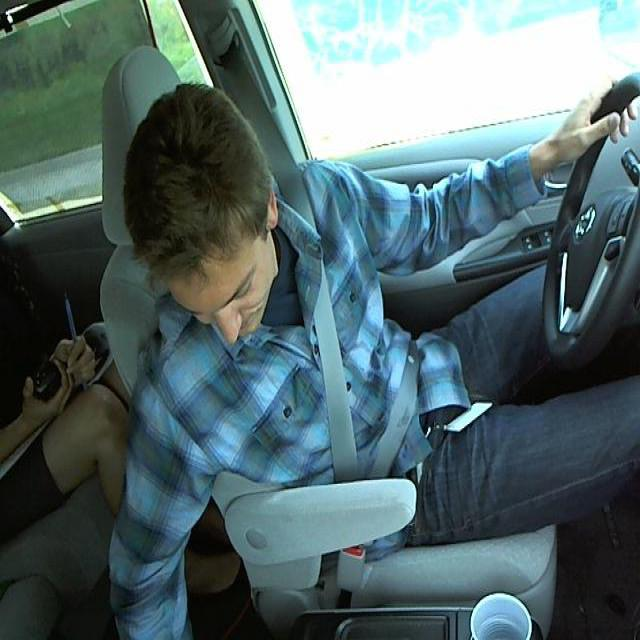seatbelt: (274, 204, 425, 484)
